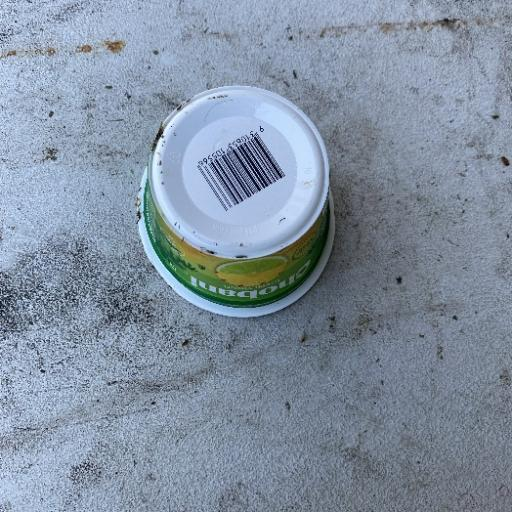Plastic: (133, 83, 337, 320)
